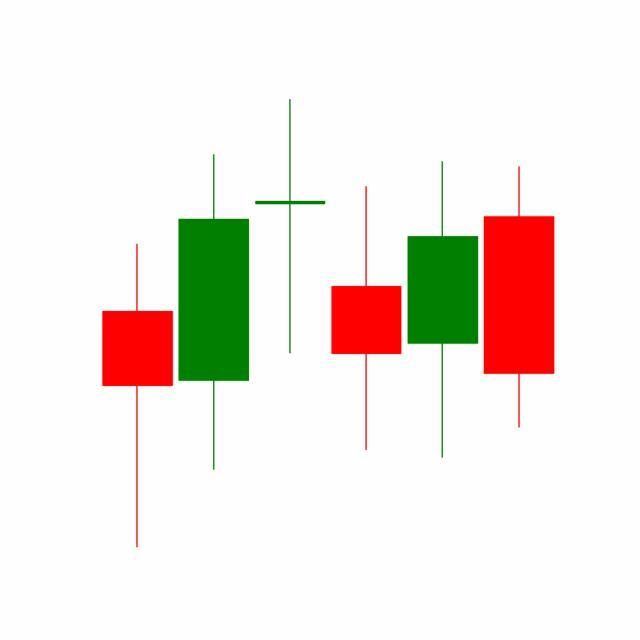Tasuki Gap: (252, 99, 482, 463)
